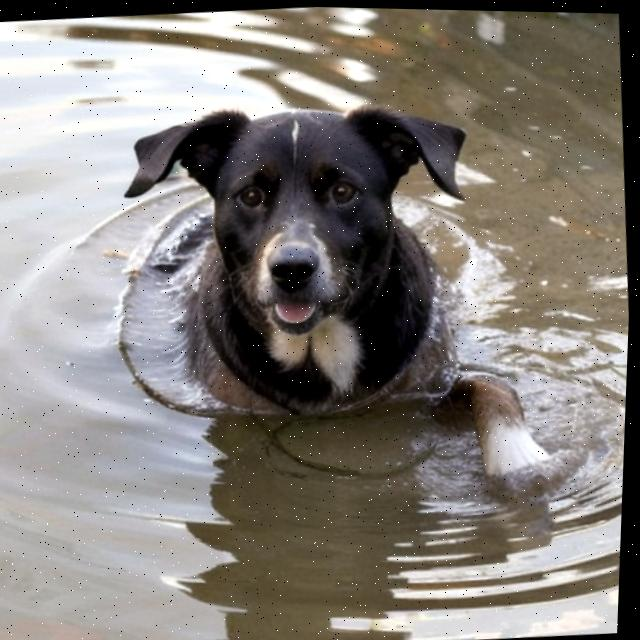dog: (83, 68, 563, 517)
